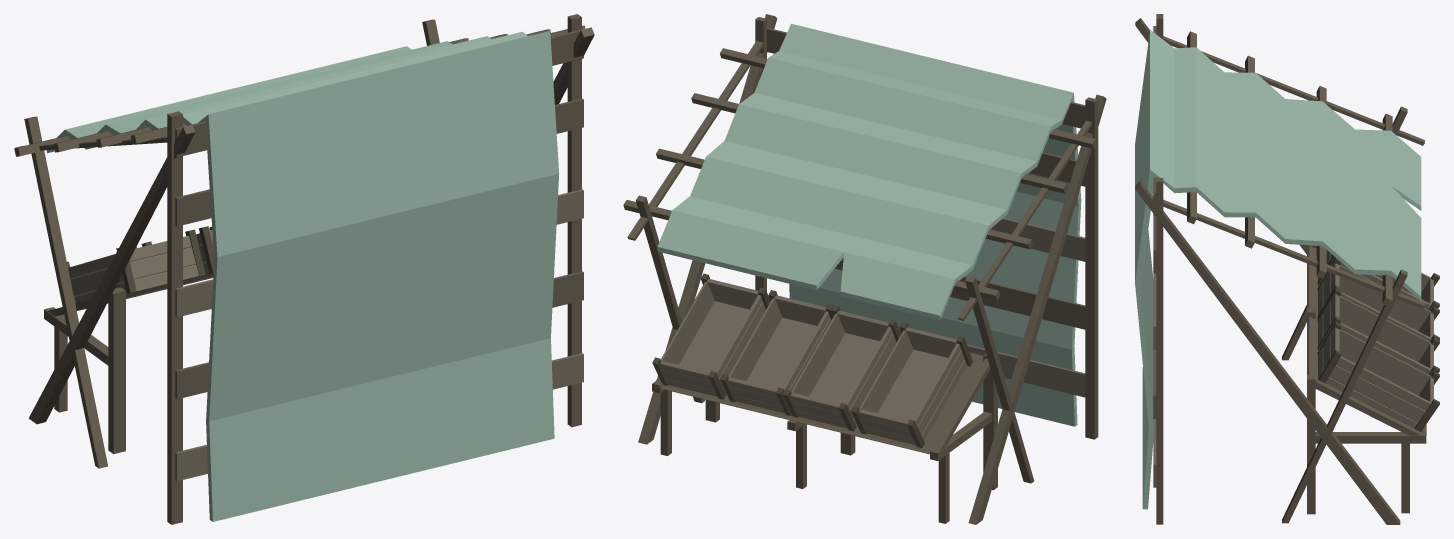
Rendered from Store.glb.
The picture shows the model from 3 angles, left to right: view 1: azimuth 30°, elevation 25°; view 2: azimuth 150°, elevation 25°; view 3: azimuth 270°, elevation 25°; orthographic projection. The views are drawn at different scales.
Visible parts, largest first — view 1: store; view 2: store; view 3: store.
Boxes of the visible parts, x1,y1,x2,y2 form: store: (14, 14, 594, 524); store: (623, 14, 1106, 524); store: (1135, 14, 1439, 524).
Bounding box in the file's own units: 3.66 × 3.19 × 2.55.
1 material, 1 textured.
